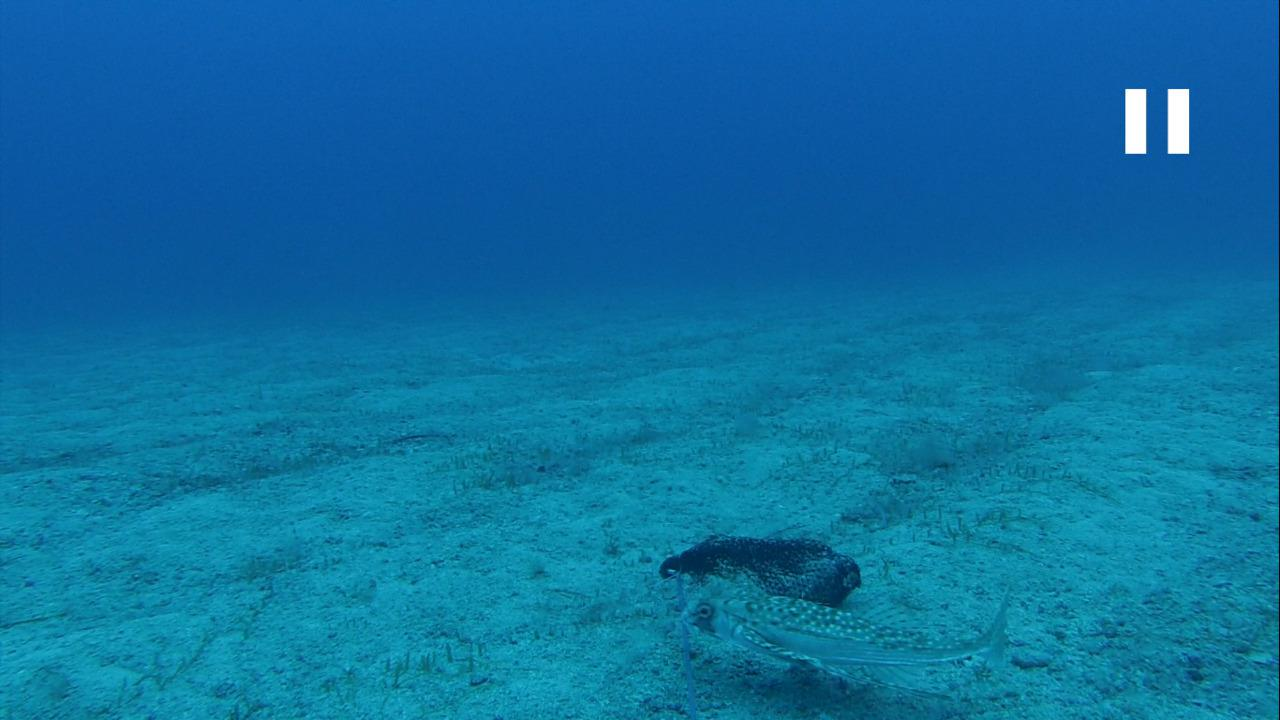dactylopterus: (674, 584, 1028, 694)
